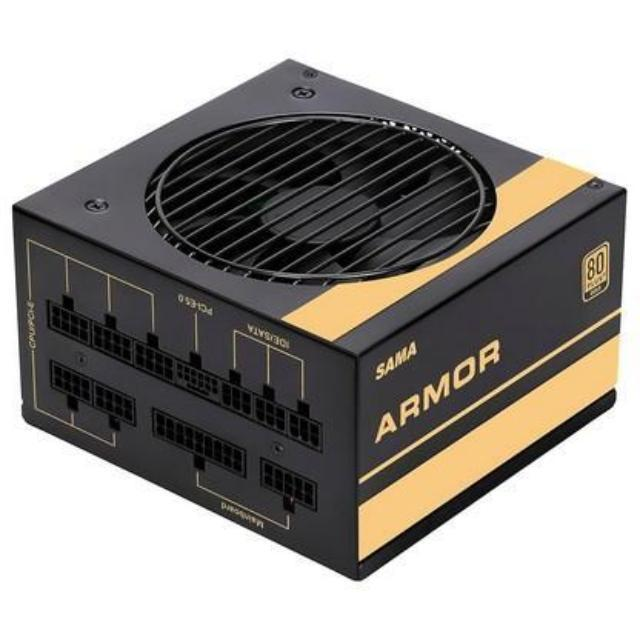PSU: (0, 56, 640, 590)
